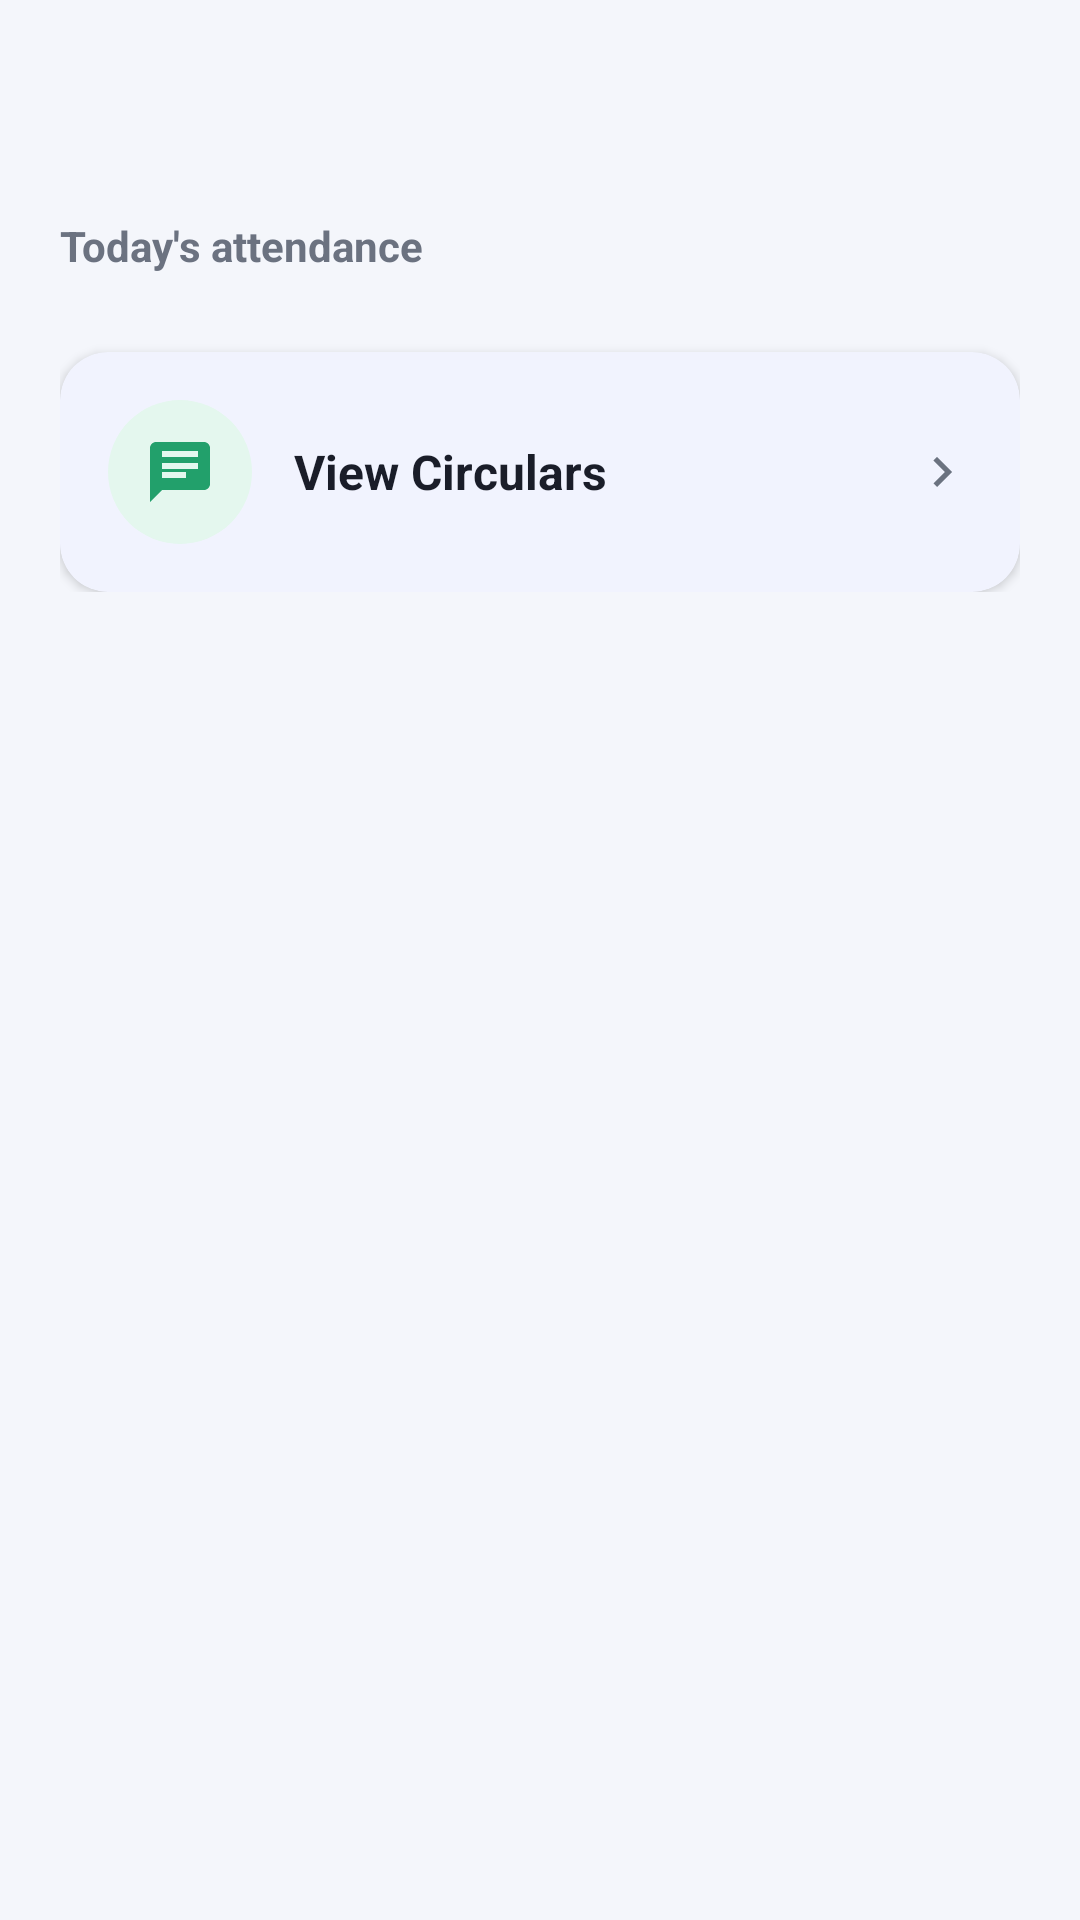

Where icons sit on this 1080px x 1920px app screen, as [x1, y1, x2, y2]:
chevron right: [933, 457, 952, 487]
notice: [150, 442, 210, 502]
